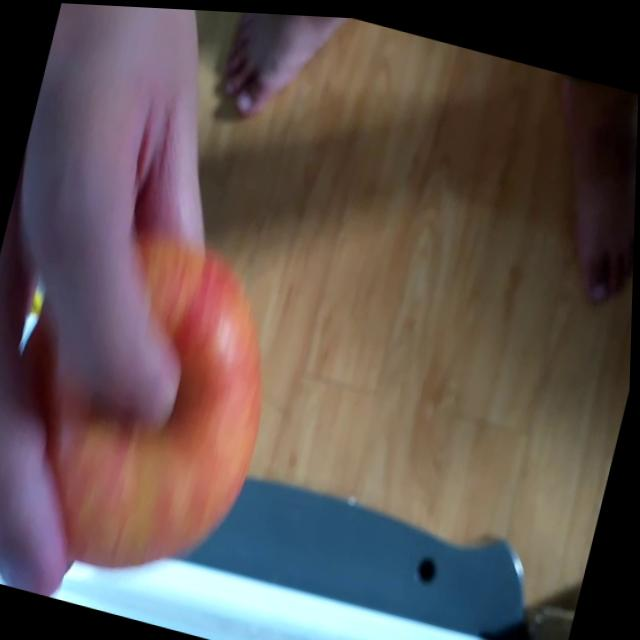apple: (0, 205, 296, 591)
